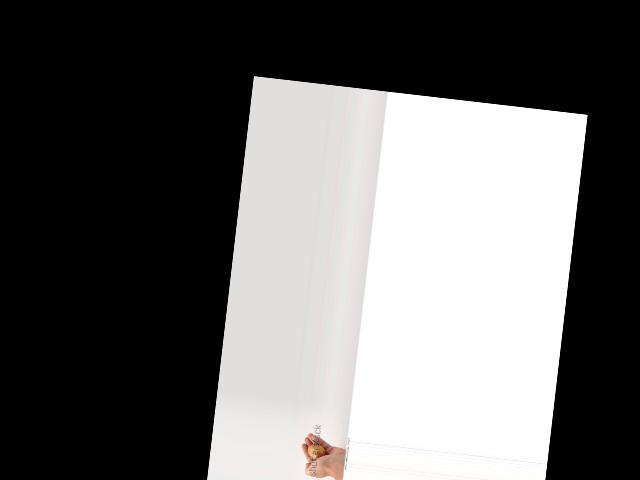egg: (307, 443, 326, 460)
